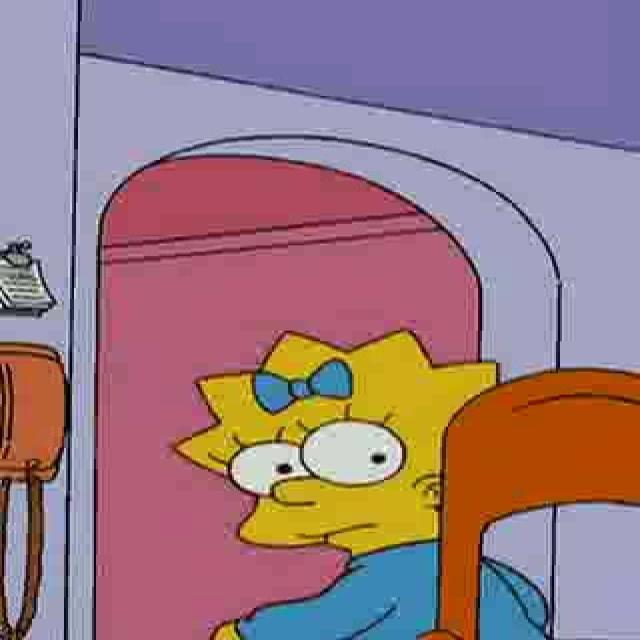Maggie Simpson: (161, 324, 507, 560)
